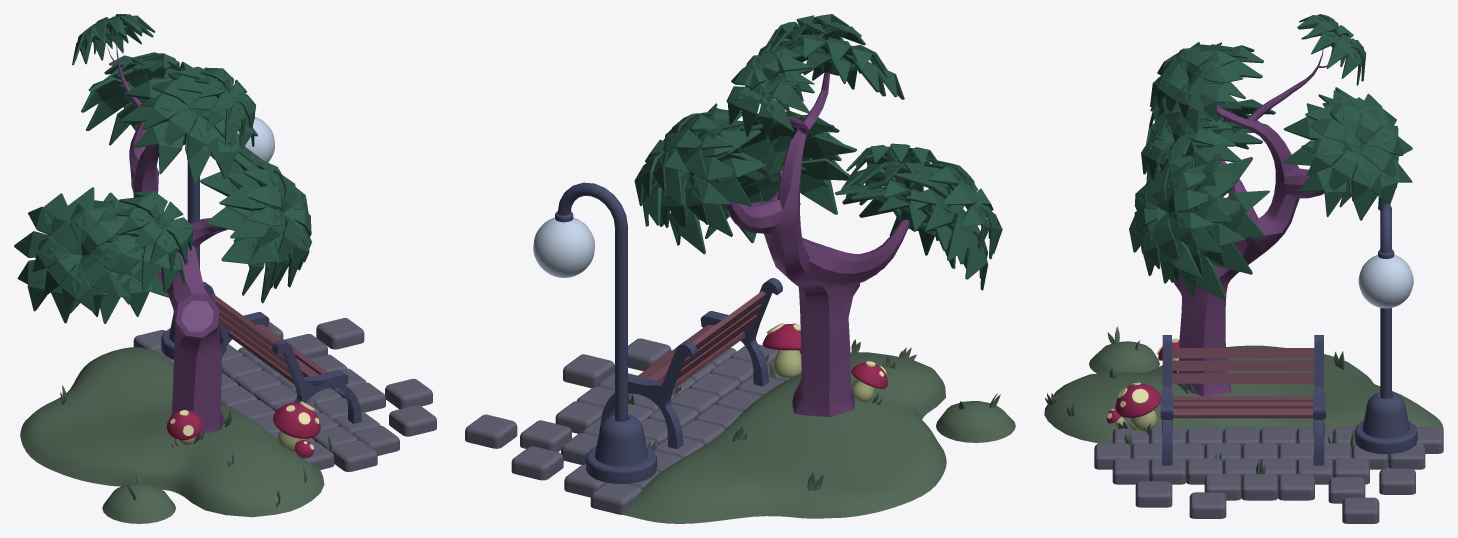
File: TextureOutdoorScene.fbx
The picture shows the model from 3 angles, left to right: view 1: azimuth 30°, elevation 25°; view 2: azimuth 150°, elevation 25°; view 3: azimuth 270°, elevation 25°; orthographic projection. The views are drawn at different scales.
Visible parts, largest first — view 1: GrassFloor, pPlane10 (×7), pPlane9 (×8), Tree, Cobble01 (×4), pPlane11, GrassIsland, BenchMetal2, Mush01, Cobble25 (×2), Cobble29, Cobble28 (+14 smaller); view 2: GrassFloor, pPlane9 (×8), Tree, pPlane10 (×8), LampPost, pPlane11, LampGlow, GrassIsland, BenchMetal1, Cobble27 (×2), Cobble25 (×2), BenchMetal2 (+14 smaller); view 3: pPlane10 (×7), pPlane9 (×9), GrassFloor, Tree, LampPost, pPlane11, Cobble01 (×4), LampGlow, Cobble24 (×3), Cobble23 (×3), Cobble22 (×3), pPlane12 (+21 smaller).
Part boxes in pixels (box(x1,y1,x2,y2)): GrassFloor: box(20, 347, 324, 517); pPlane10 (×7): box(32, 14, 311, 312); pPlane9 (×8): box(14, 15, 312, 323); Tree: box(107, 40, 227, 434); Cobble01 (×4): box(294, 405, 436, 471); pPlane11: box(200, 147, 288, 303); GrassIsland: box(102, 483, 175, 523); BenchMetal2: box(272, 339, 362, 423); Mush01: box(273, 402, 320, 452); Cobble25 (×2): box(221, 334, 327, 380); Cobble29: box(316, 318, 364, 349); Cobble28: box(385, 378, 432, 409); GrassFloor: box(620, 352, 946, 523); pPlane9 (×8): box(642, 21, 988, 290); Tree: box(726, 72, 909, 417); pPlane10 (×8): box(634, 14, 1002, 259); LampPost: box(555, 182, 656, 483); pPlane11: box(705, 116, 856, 243); LampGlow: box(533, 217, 594, 277); GrassIsland: box(936, 401, 1015, 442); BenchMetal1: box(600, 340, 697, 449); Cobble27 (×2): box(511, 446, 606, 497); Cobble25 (×2): box(520, 420, 598, 464); BenchMetal2: box(700, 278, 782, 386); pPlane10 (×7): box(1133, 14, 1403, 268); pPlane9 (×9): box(1129, 21, 1412, 282); GrassFloor: box(1044, 345, 1443, 443); Tree: box(1173, 49, 1327, 396); LampPost: box(1354, 203, 1417, 453); pPlane11: box(1160, 140, 1269, 299); Cobble01 (×4): box(1094, 427, 1172, 507); LampGlow: box(1358, 255, 1413, 308); Cobble24 (×3): box(1278, 443, 1333, 500); Cobble23 (×3): box(1241, 443, 1296, 500); Cobble22 (×3): box(1204, 443, 1259, 500); pPlane12: box(1159, 153, 1245, 280).
Bounding box in the file's own units: 12.15 × 11.7 × 10.86.
